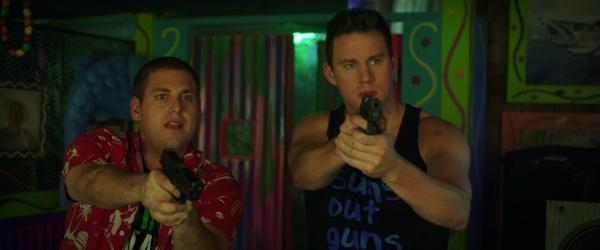Gun: (158, 149, 204, 206), (360, 97, 386, 135)
